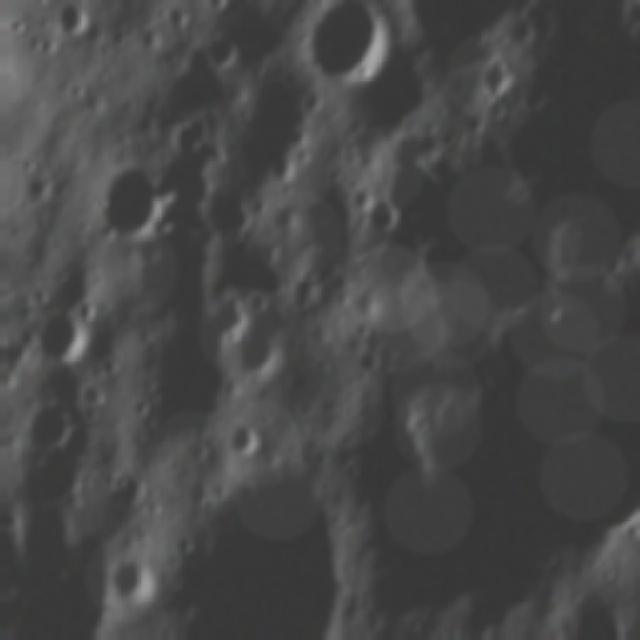crater: (292, 1, 396, 97), (92, 160, 168, 254), (21, 304, 99, 370), (15, 401, 83, 465), (108, 552, 162, 618), (226, 330, 286, 387), (465, 52, 517, 112), (350, 193, 401, 241), (199, 33, 239, 82), (43, 3, 91, 42), (220, 422, 263, 464), (176, 478, 210, 516), (238, 290, 272, 324)
